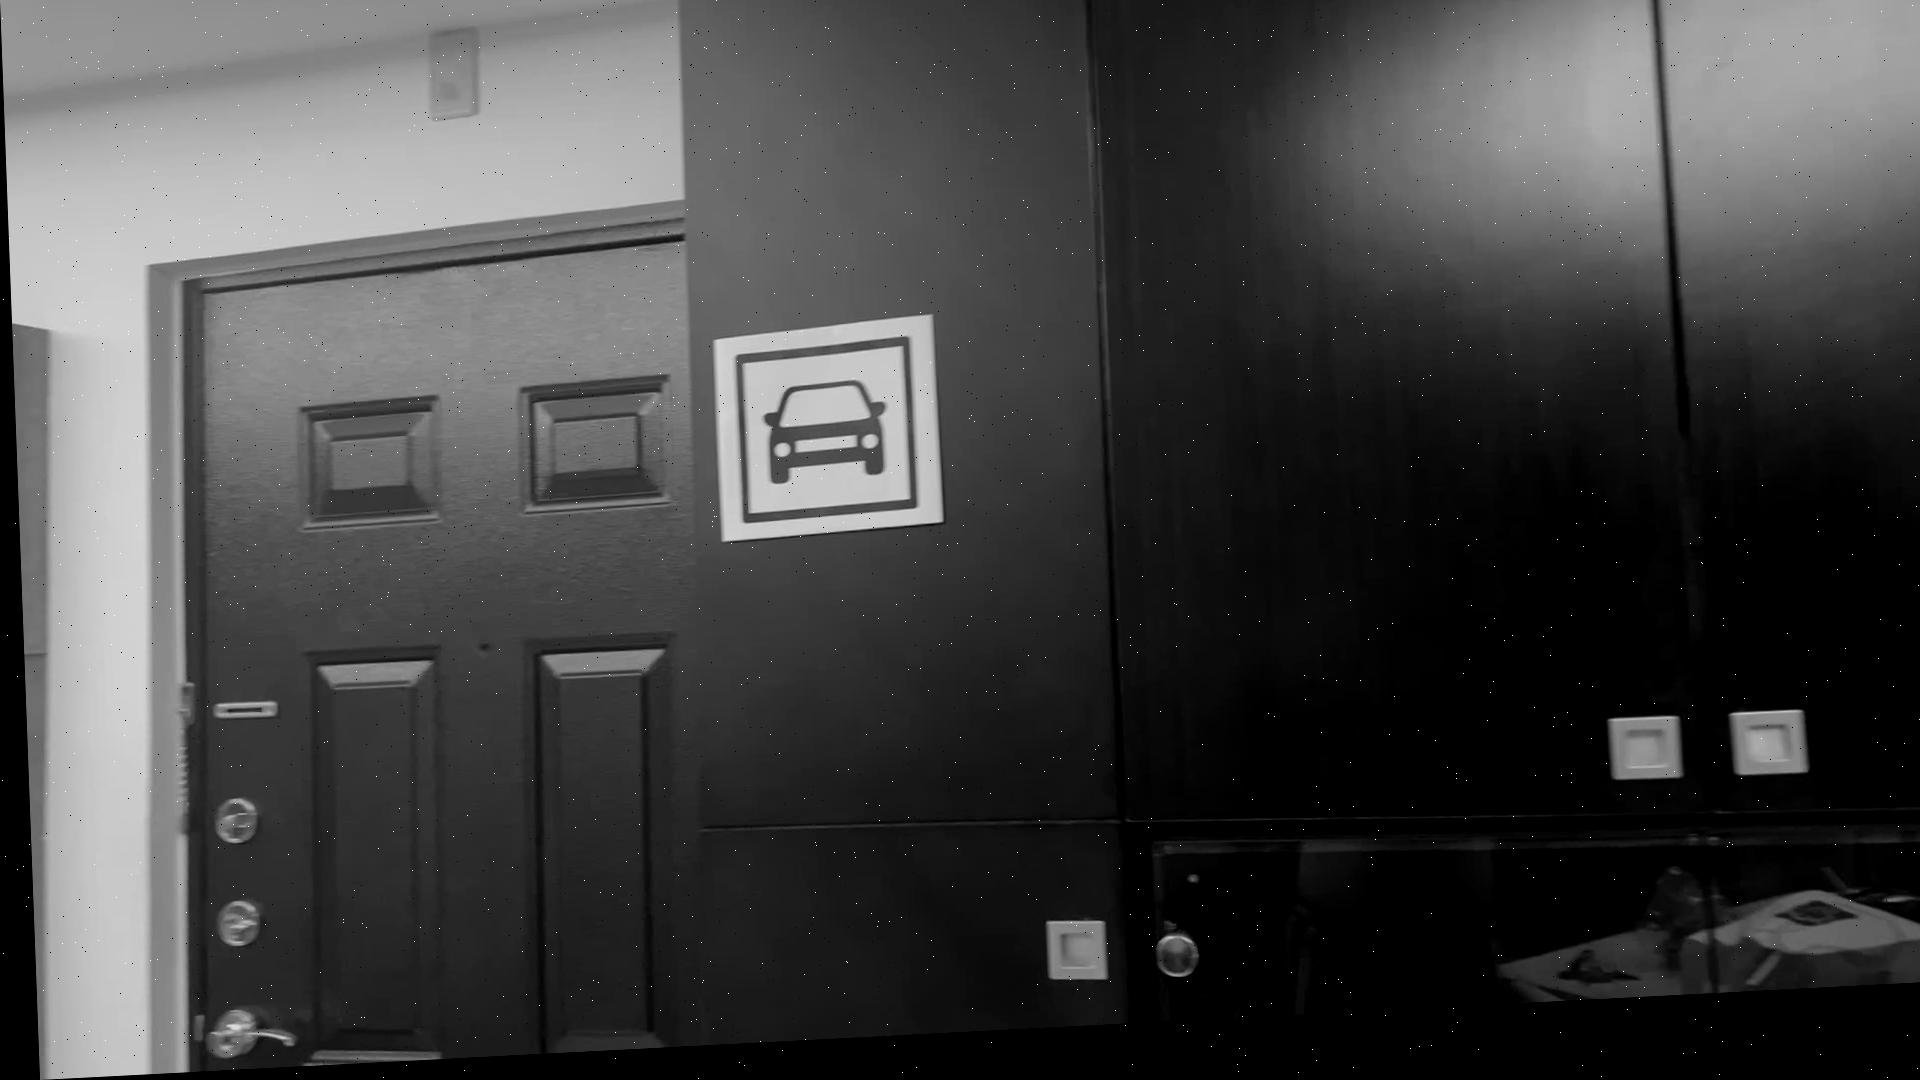car_img: (727, 336, 916, 535)
